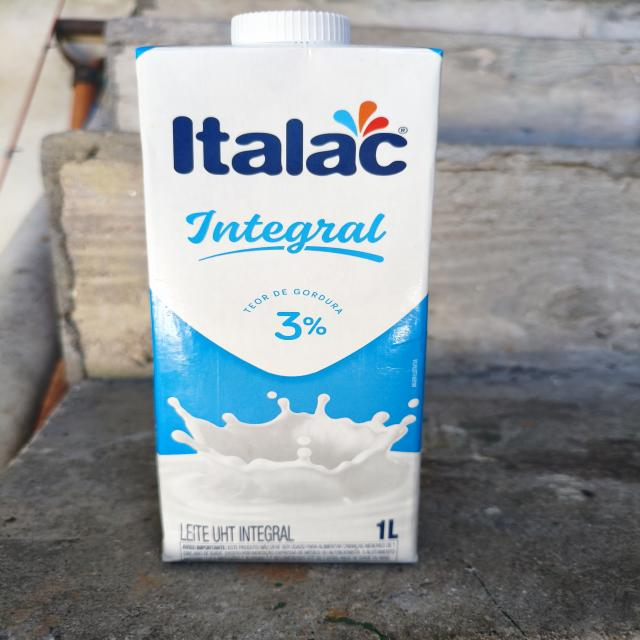Caixa de Leite: (115, 6, 452, 566)
